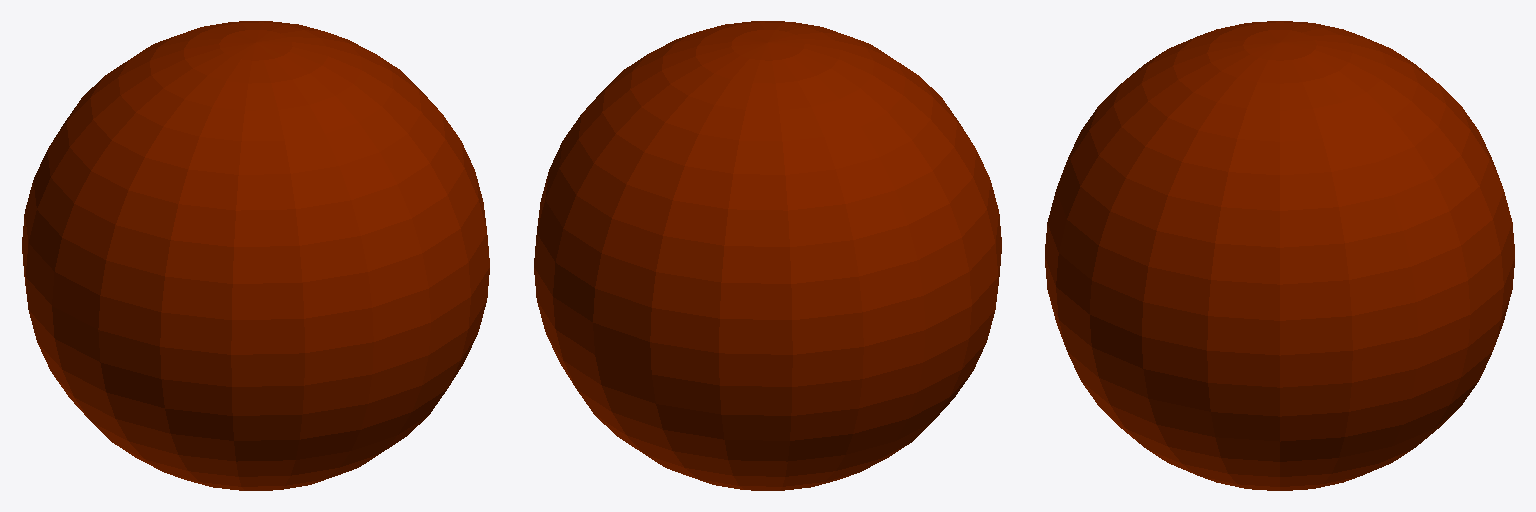
File: blast.obj
The picture shows the model from 3 angles: view 1: azimuth 30°, elevation 25°; view 2: azimuth 150°, elevation 25°; view 3: azimuth 270°, elevation 25°; orthographic projection.
Size of the model in its own units: 6.07 by 6.07 by 6.07.